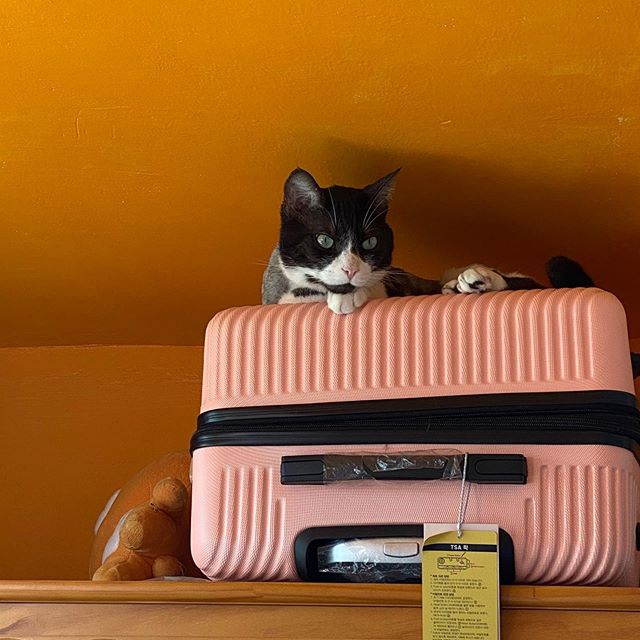cat: (262, 154, 401, 293)
